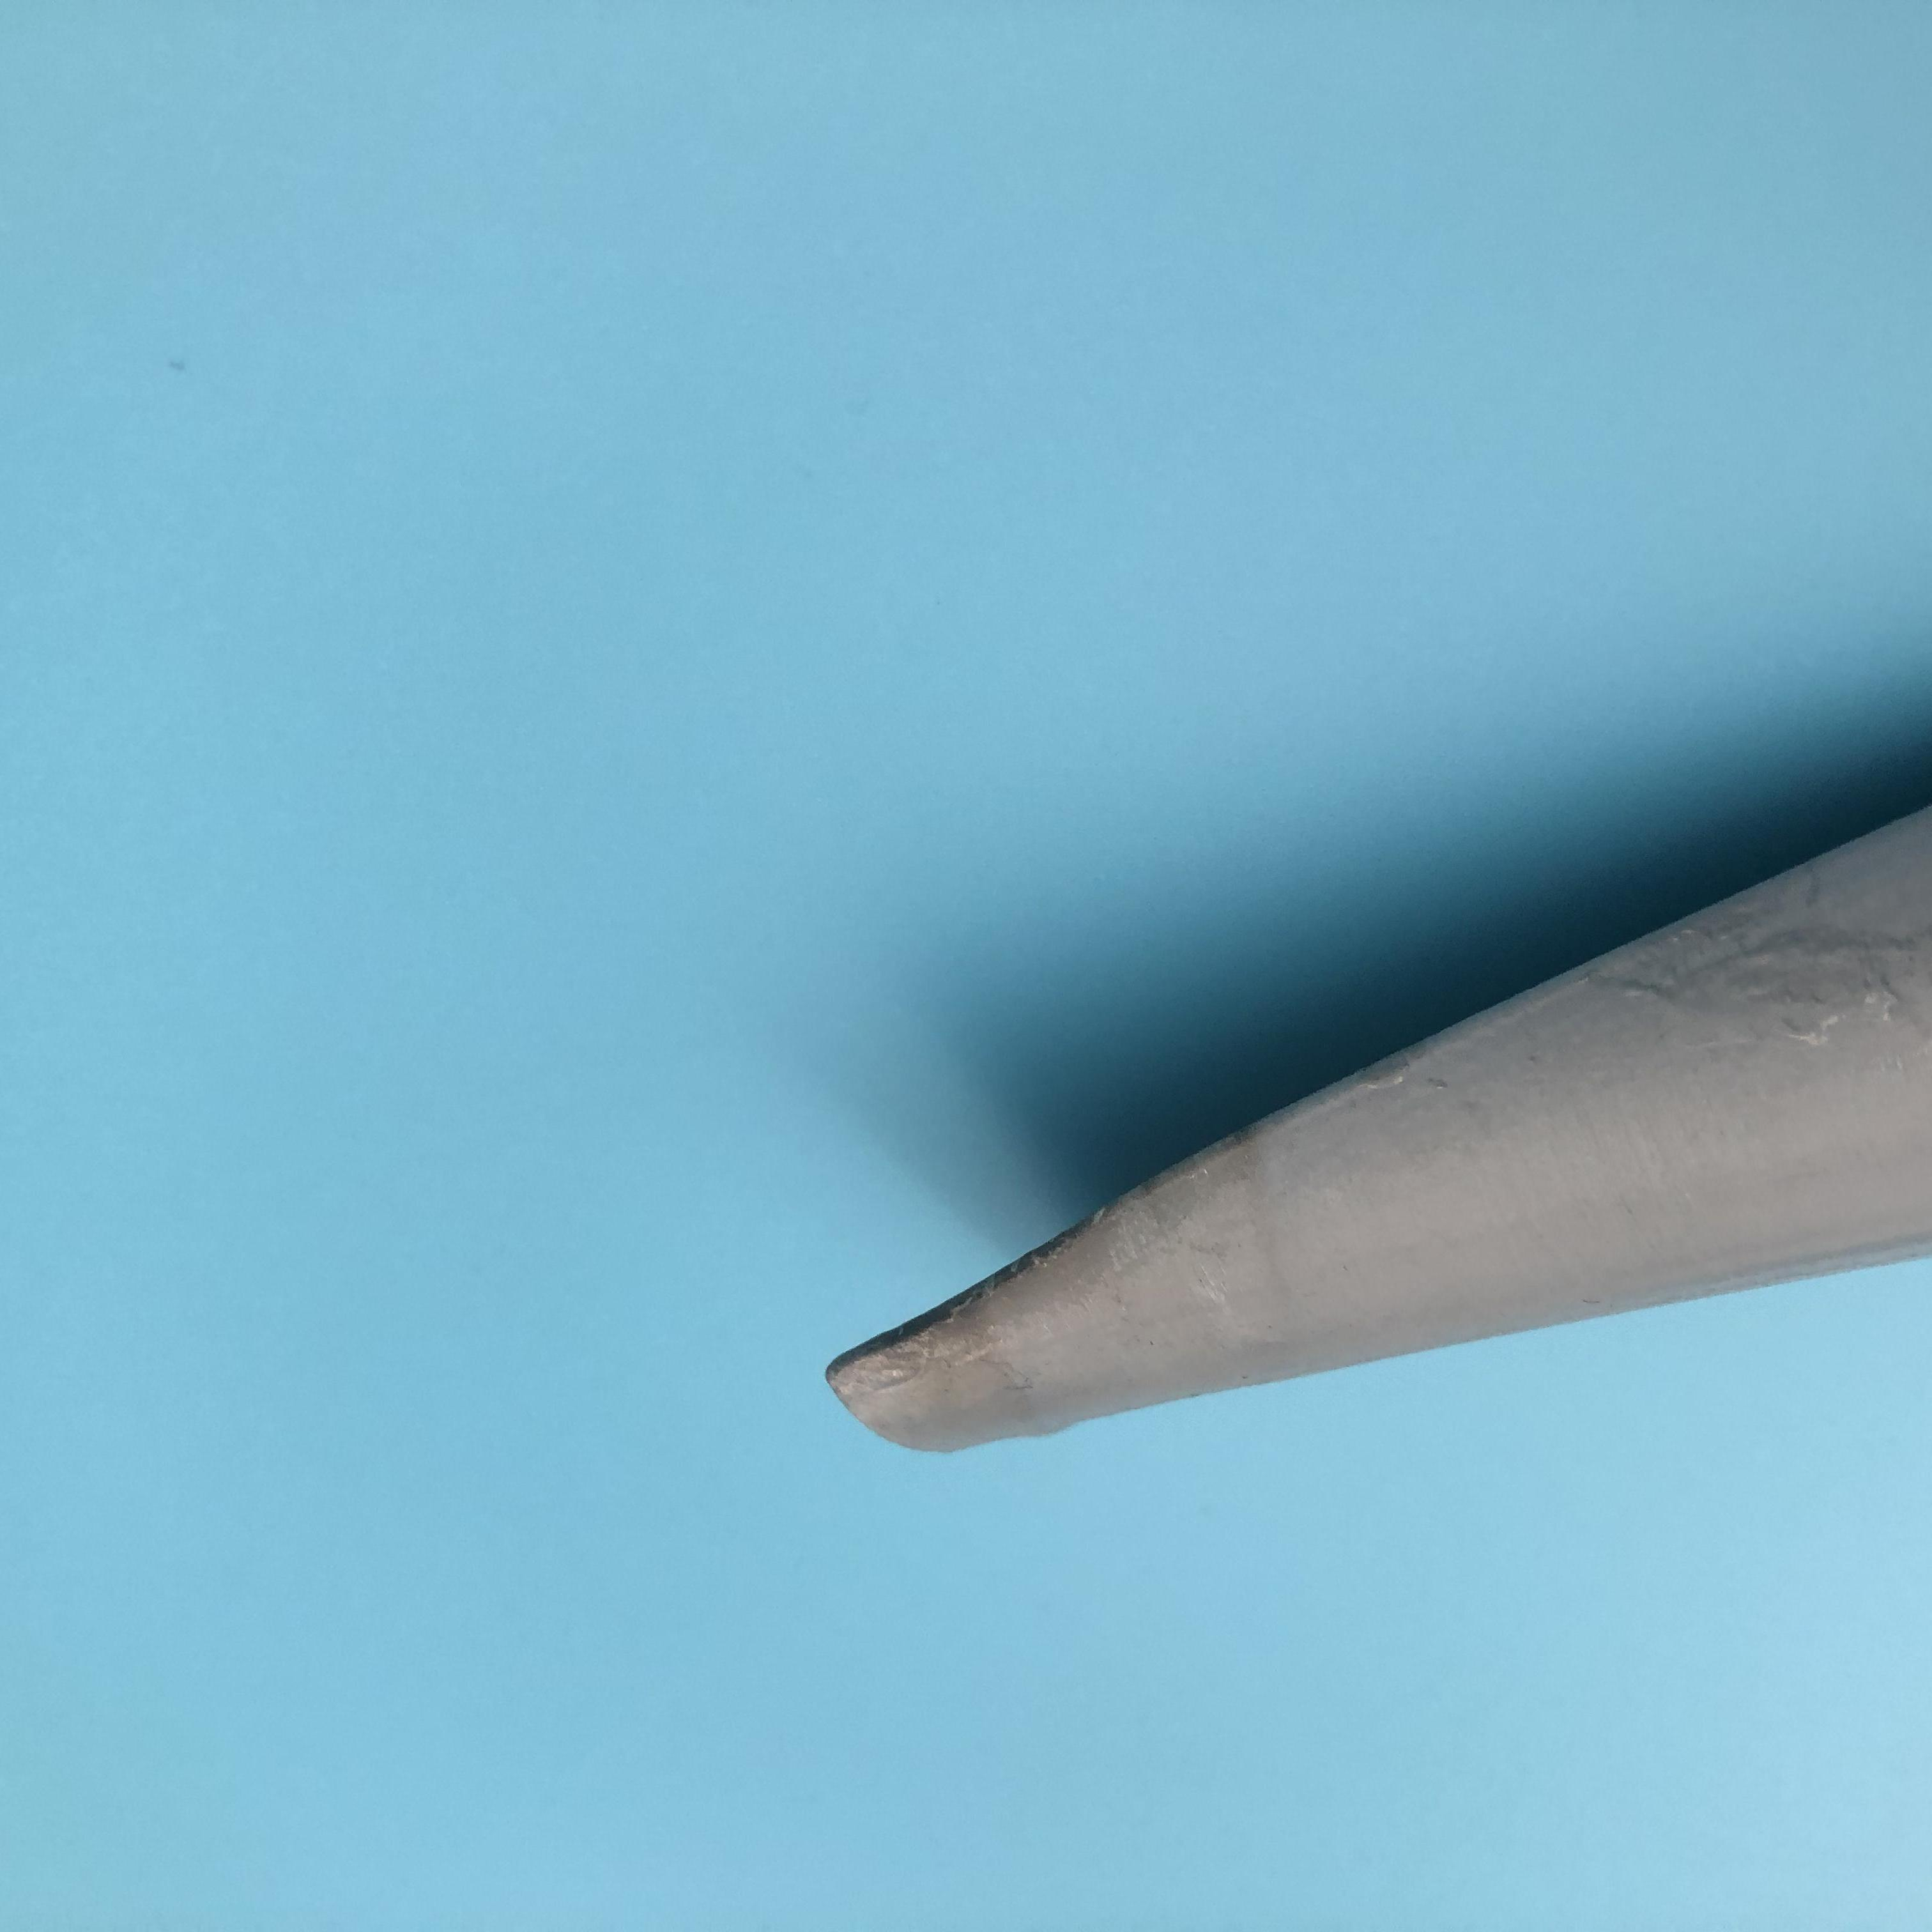ablation: (844, 1265, 1095, 1369)
